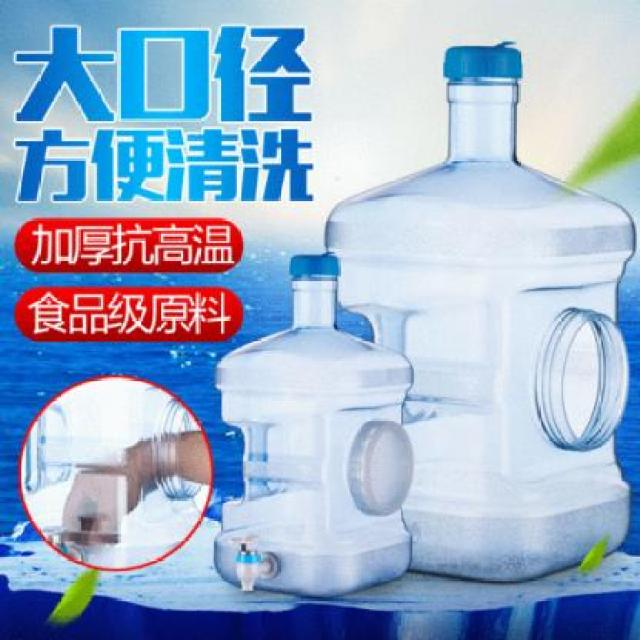coolerbottle: (326, 40, 640, 585), (210, 251, 422, 602)
